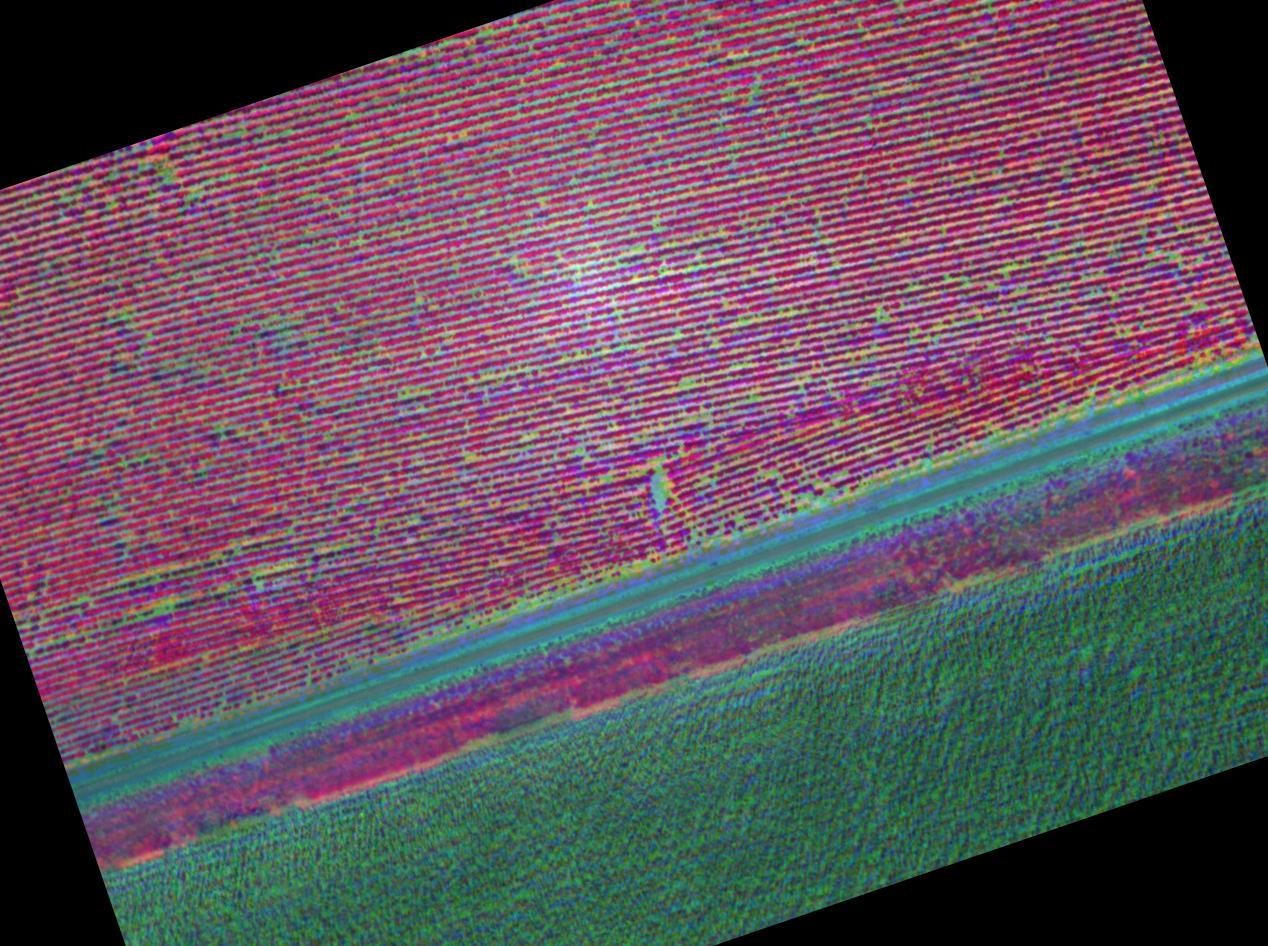dc: (158, 609, 164, 614), (481, 32, 486, 36), (80, 598, 85, 602), (513, 260, 517, 264), (406, 394, 410, 398), (732, 56, 737, 59), (594, 127, 598, 130), (540, 199, 544, 202), (417, 294, 420, 297), (487, 376, 490, 379)
